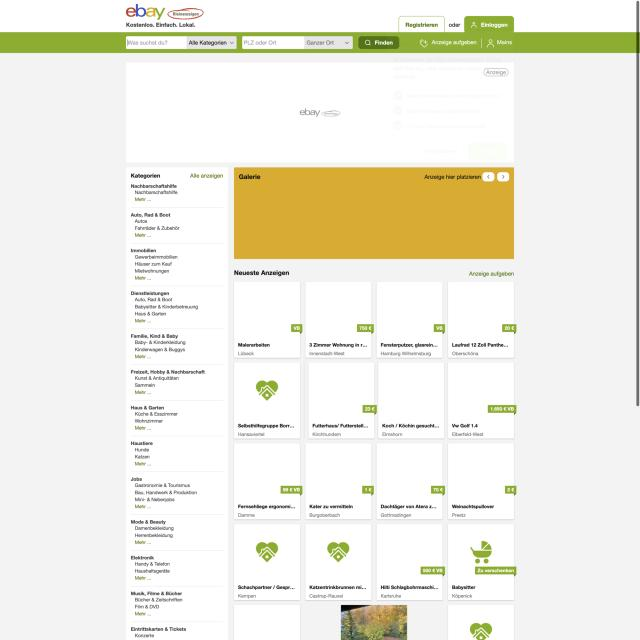input: (126, 36, 237, 49), (242, 35, 304, 49), (126, 36, 187, 49), (358, 36, 399, 49)
logo: (124, 1, 206, 29)
navigation: (130, 180, 226, 640), (482, 171, 512, 182)
